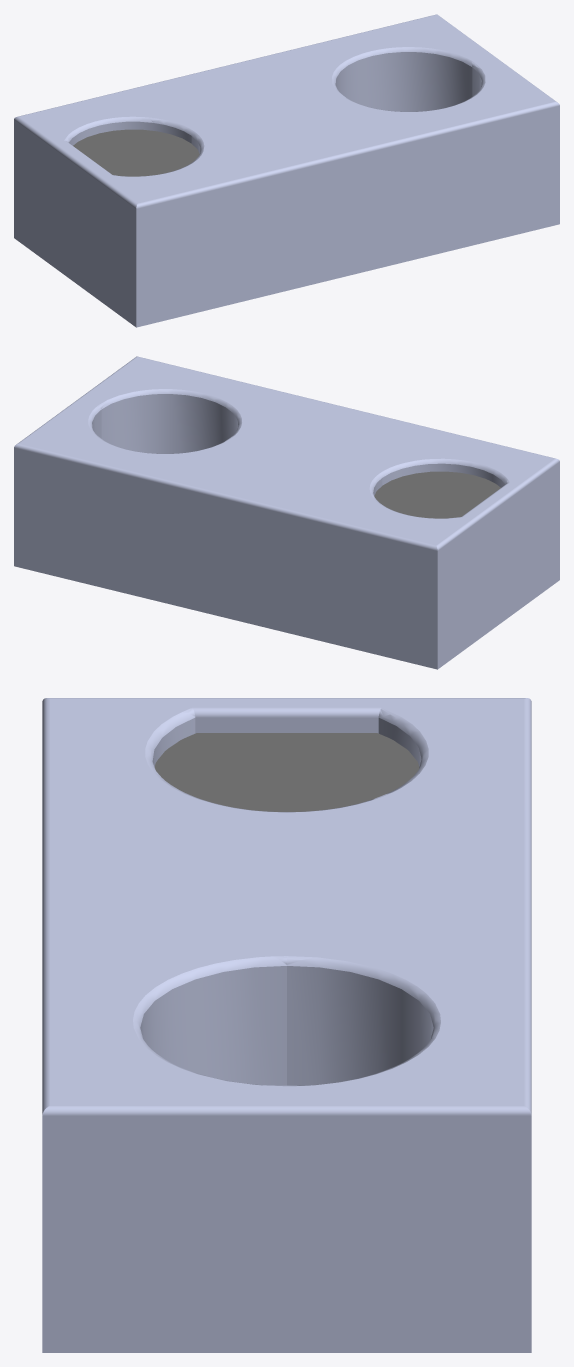
The model's file is sfe-vcnl4040.glb.
3 renders of one model, top to bottom at view 1: azimuth 30°, elevation 25°; view 2: azimuth 150°, elevation 25°; view 3: azimuth 270°, elevation 25°, orthographic. The views are drawn at different scales.
Parts seen in each view (by area): view 1: 0.5833333333333334_0.6666666666666666_0.8333333333333334_0, 0.16666666666666666_0.16666666666666666_0.16666666666666666_; view 2: 0.5833333333333334_0.6666666666666666_0.8333333333333334_0, 0.16666666666666666_0.16666666666666666_0.16666666666666666_; view 3: 0.5833333333333334_0.6666666666666666_0.8333333333333334_0, 0.16666666666666666_0.16666666666666666_0.16666666666666666_.
Part boxes in pixels (box(x1,y1,x2,y2)): 0.5833333333333334_0.6666666666666666_0.8333333333333334_0: box(14, 14, 559, 327); 0.16666666666666666_0.16666666666666666_0.16666666666666666_: box(73, 129, 199, 176); 0.5833333333333334_0.6666666666666666_0.8333333333333334_0: box(14, 356, 559, 669); 0.16666666666666666_0.16666666666666666_0.16666666666666666_: box(374, 471, 500, 518); 0.5833333333333334_0.6666666666666666_0.8333333333333334_0: box(42, 698, 531, 1352); 0.16666666666666666_0.16666666666666666_0.16666666666666666_: box(154, 733, 419, 811).
Size of the model in its own units: 0.4 by 0.1103 by 0.2.
